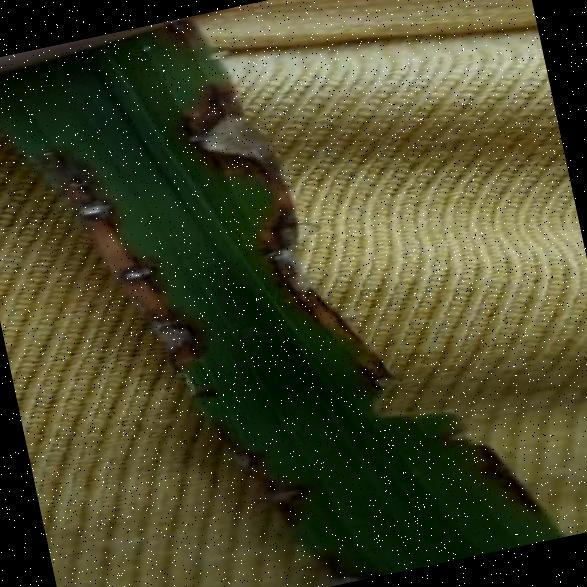Leaf_smut: (165, 65, 274, 192), (236, 184, 331, 316), (26, 139, 118, 246), (134, 287, 220, 389), (250, 462, 314, 526), (110, 232, 172, 296), (352, 341, 408, 393), (222, 431, 260, 472)
